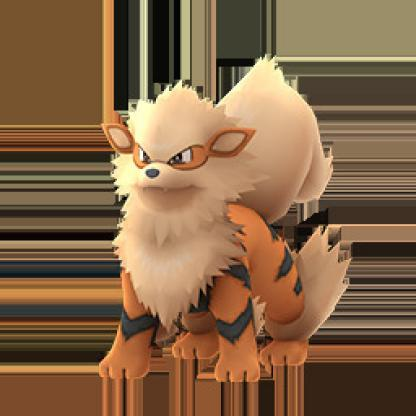Arcanine: (99, 59, 323, 389)
